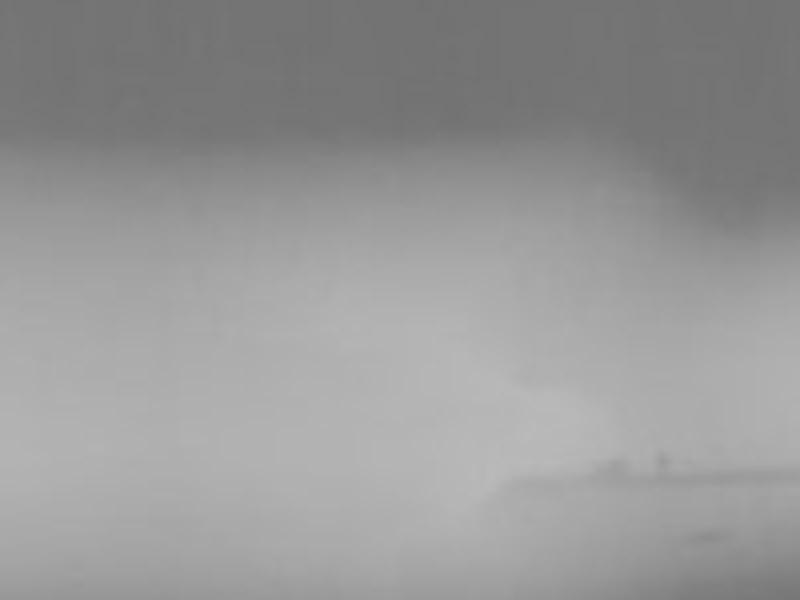defect: (649, 447, 669, 468)
